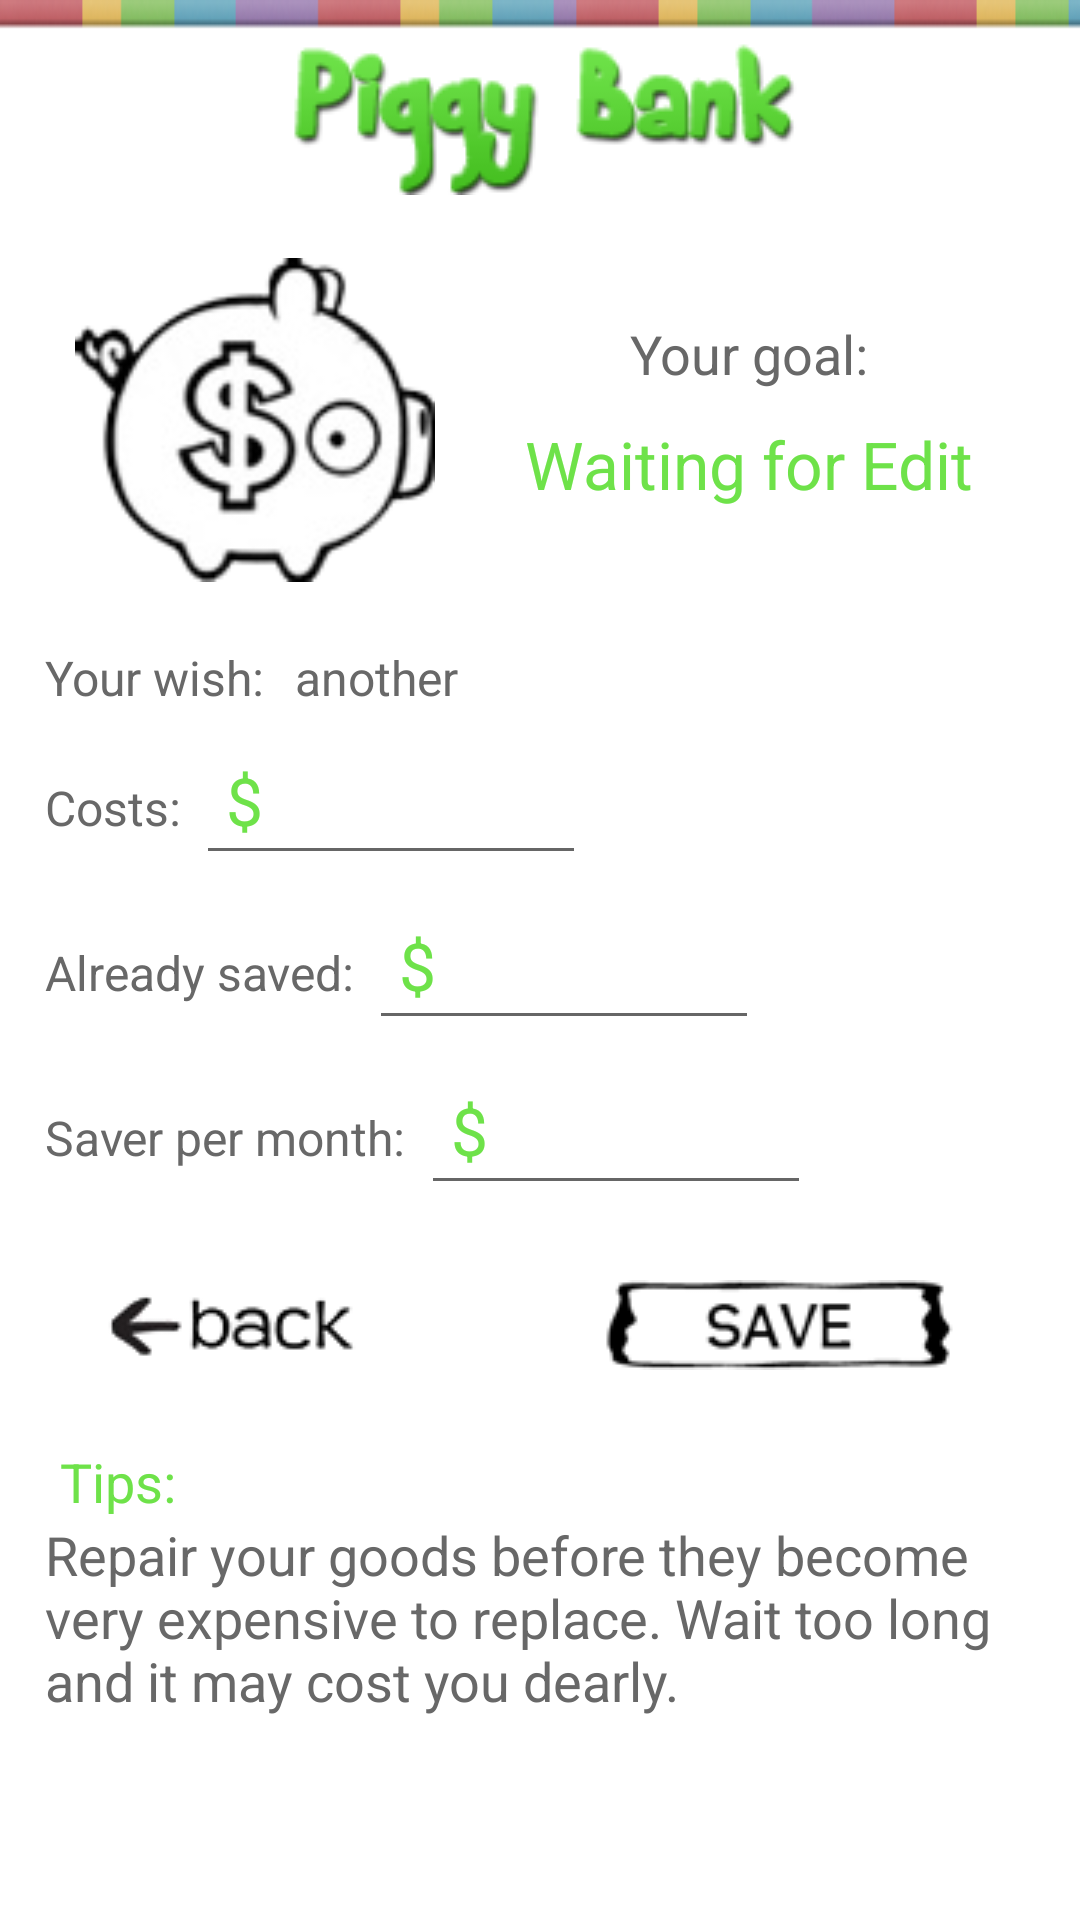

Named icons in this screenshot (1080x1920) and their bounding boxes, (x1, y1, x2, y2):
poupanca: (75, 258, 435, 582)
